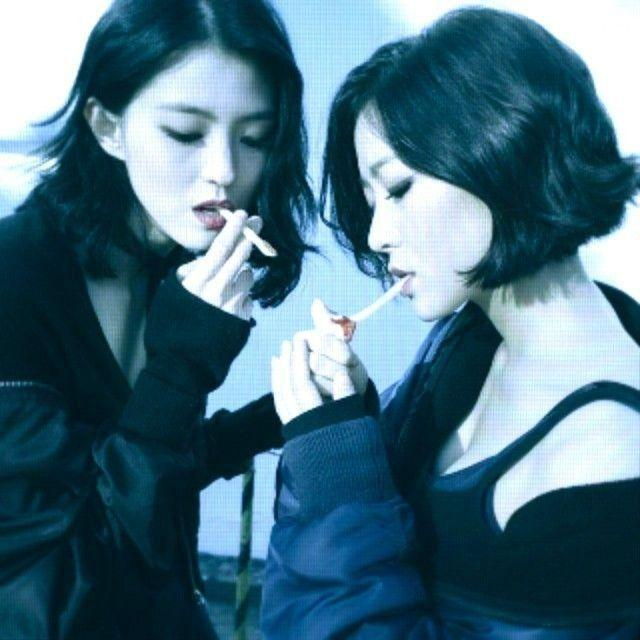cigarette: (323, 253, 427, 343), (210, 198, 291, 277)
